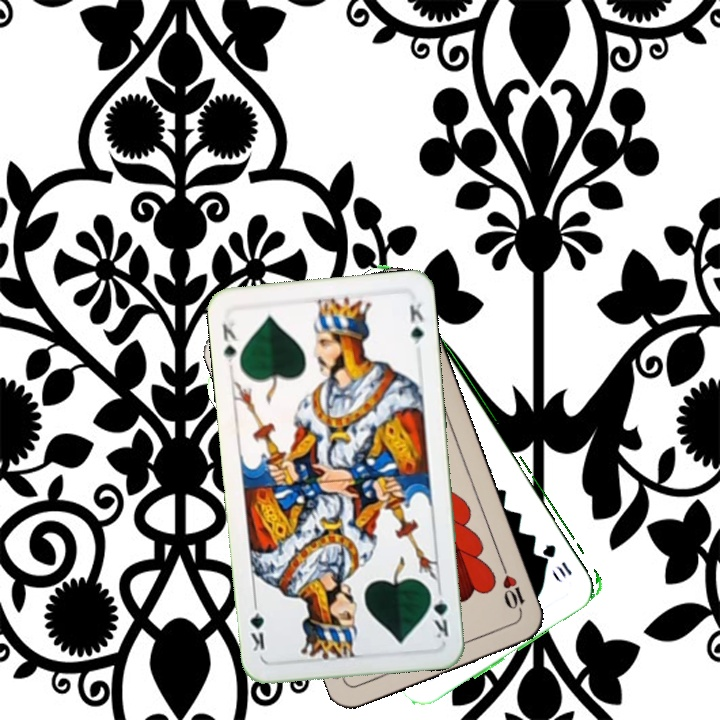G10: (540, 540, 575, 580)
GK: (426, 583, 451, 641), (218, 318, 241, 371)
H10: (497, 561, 528, 618)
